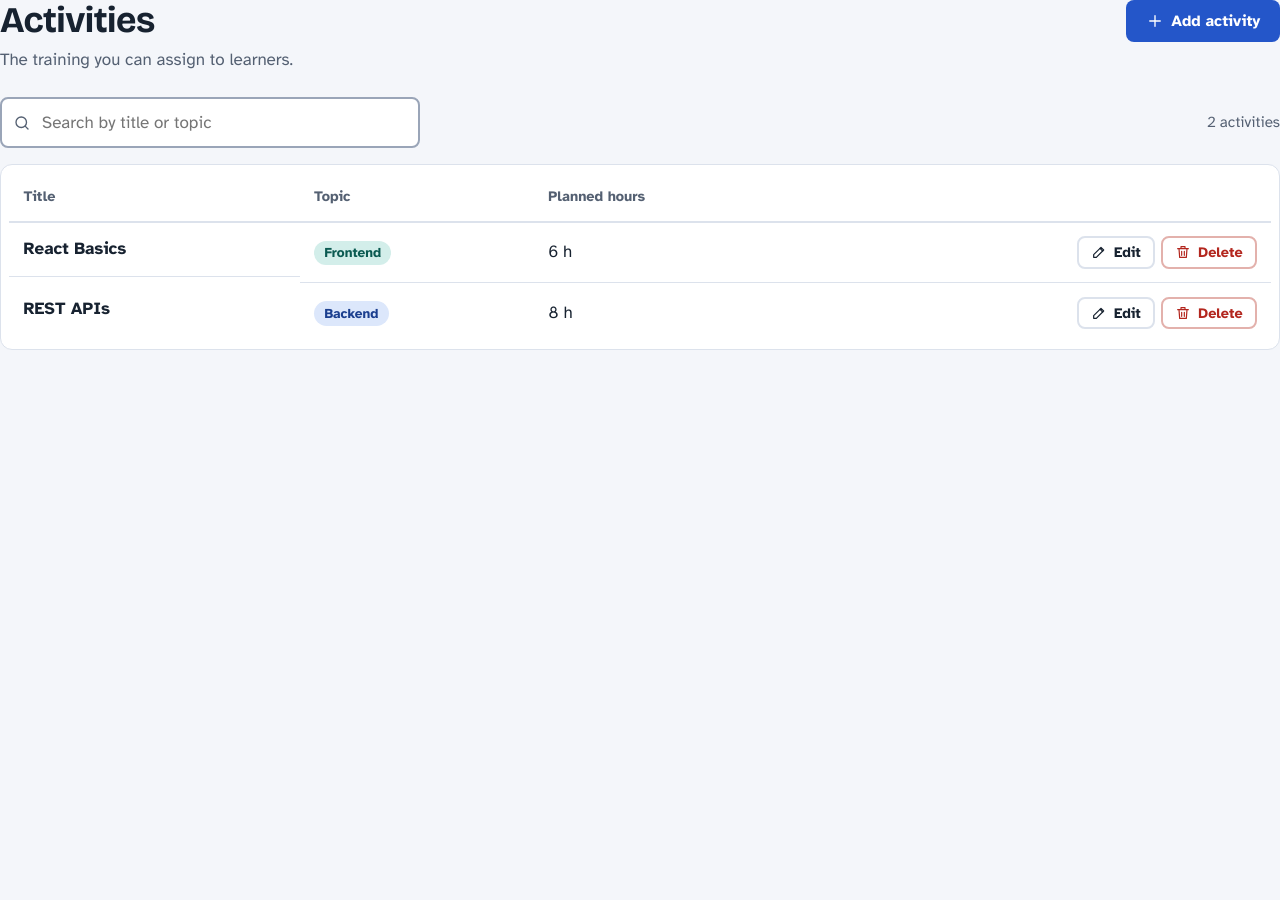
Test: deleting an activity › does nothing when cancelled
Click the button with aria-label "Delete REST APIs".
click(1209, 313)  # box [1161,297,1257,329]
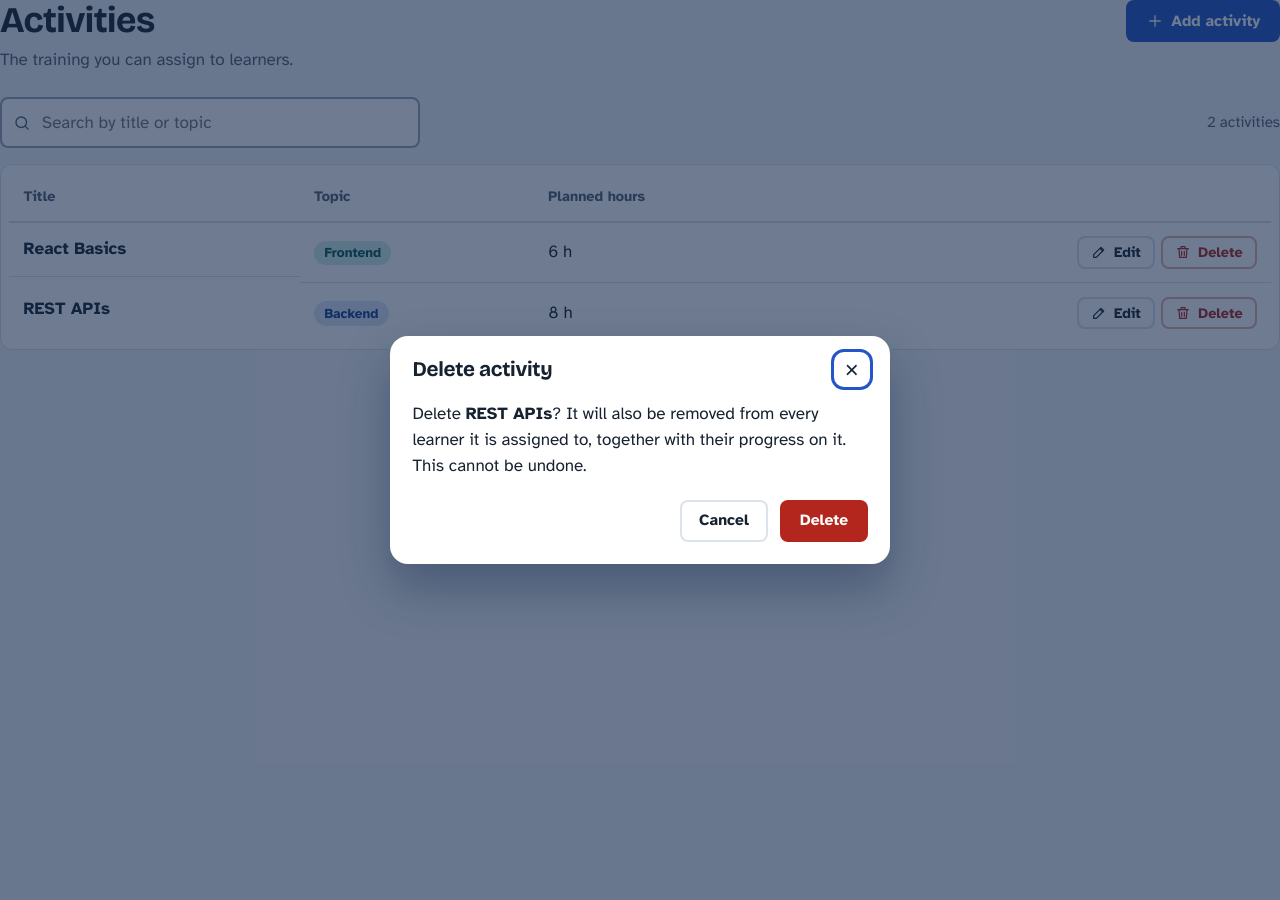
Click the button "Cancel".
click(724, 521)  # box [680,500,768,542]
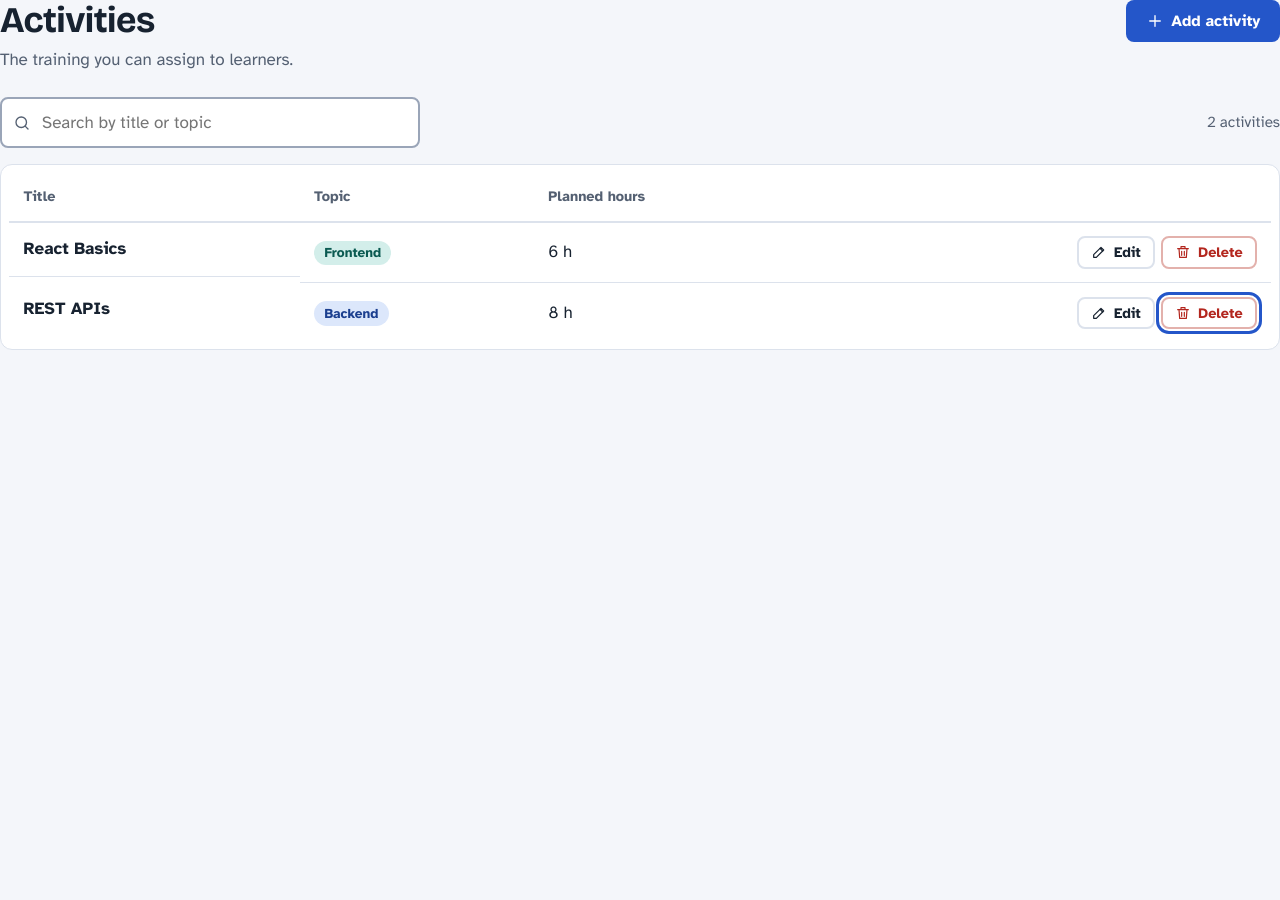
Expected: the dialog is gone
